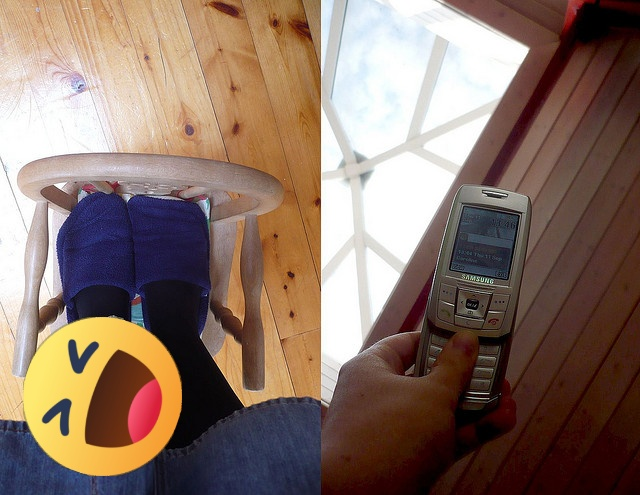haha: (23, 317, 182, 476)
